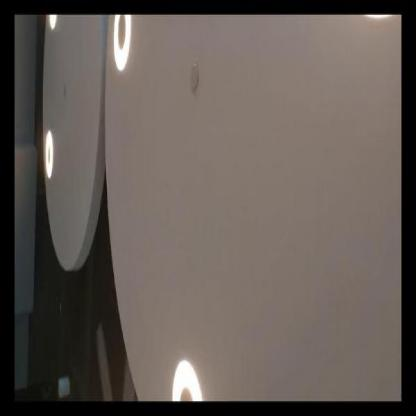light_on: (170, 344, 206, 402), (111, 14, 134, 78), (42, 119, 58, 186), (356, 14, 393, 24), (44, 14, 59, 34)
